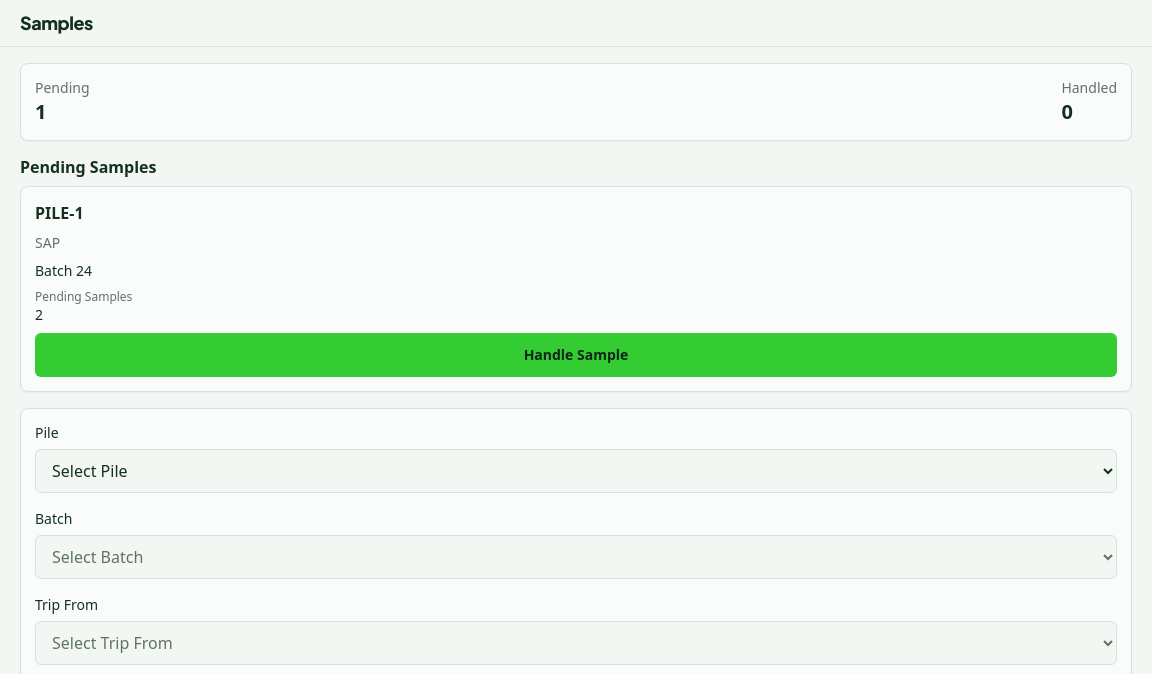
SampleHandlingPage › K. NOT_PICKED_UP saves without a destination
Select "PILE-1" in the dropdown labelled "Pile" at (576, 471), box x1=35 y1=449 x2=1117 y2=493
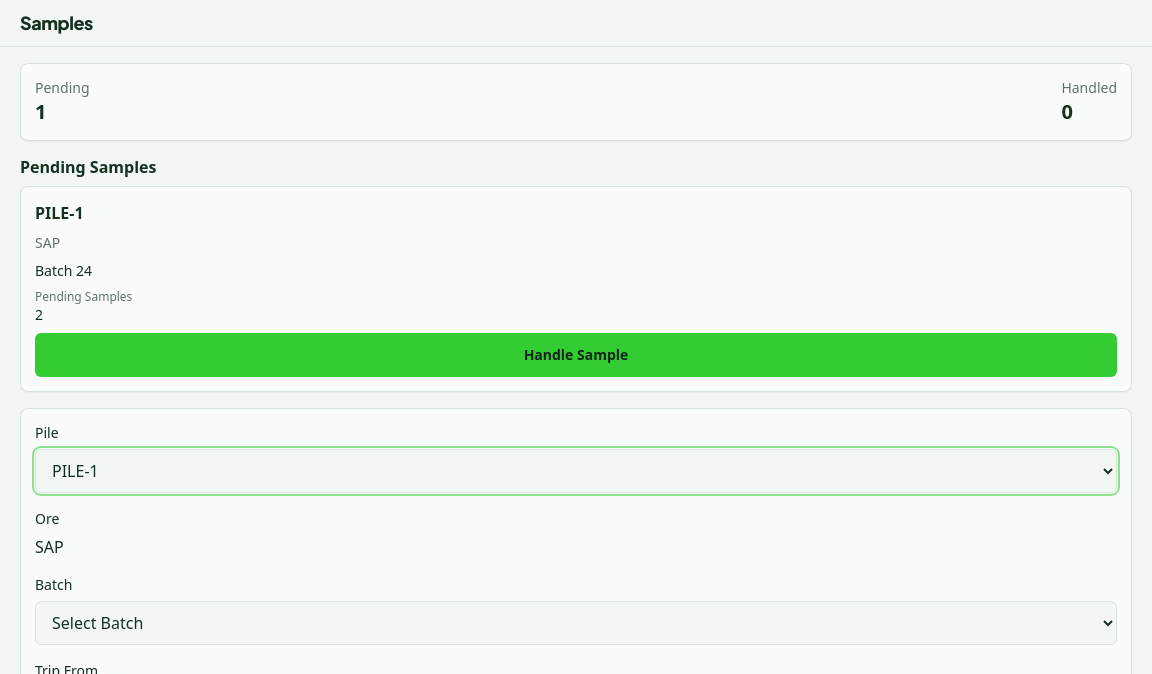
Select "24" in the dropdown labelled "Batch" at (576, 623), box x1=35 y1=601 x2=1117 y2=645
(page scrolled)
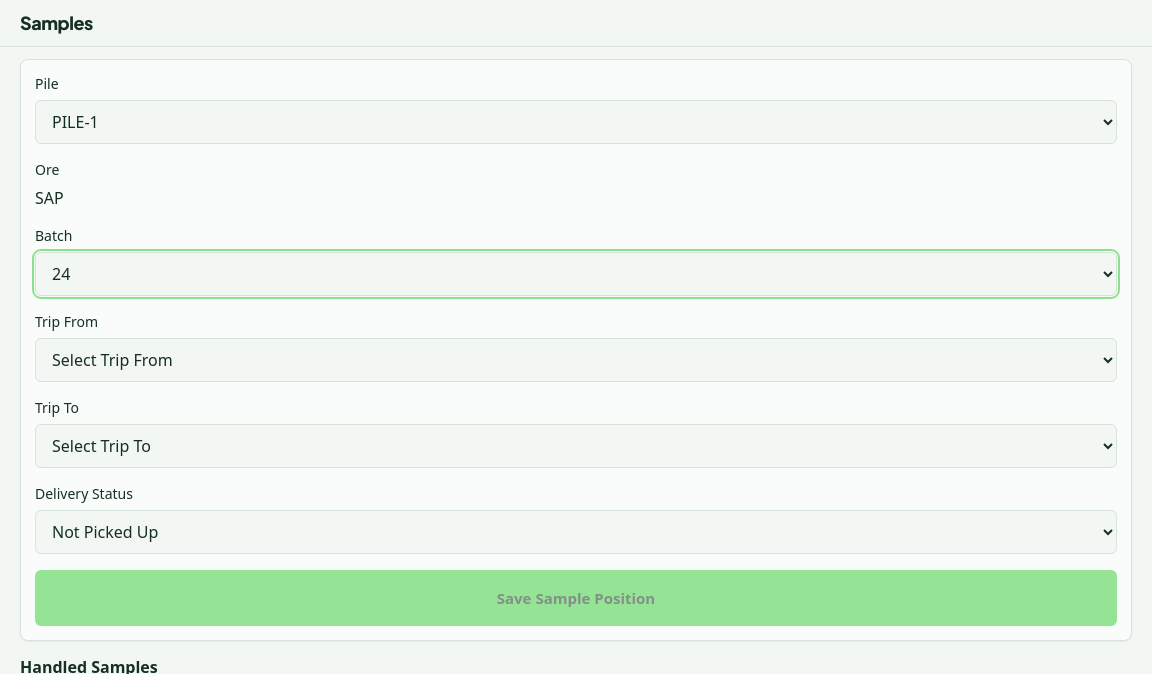
Select "2" in the dropdown labelled "Trip From" at (576, 360), box x1=35 y1=338 x2=1117 y2=382
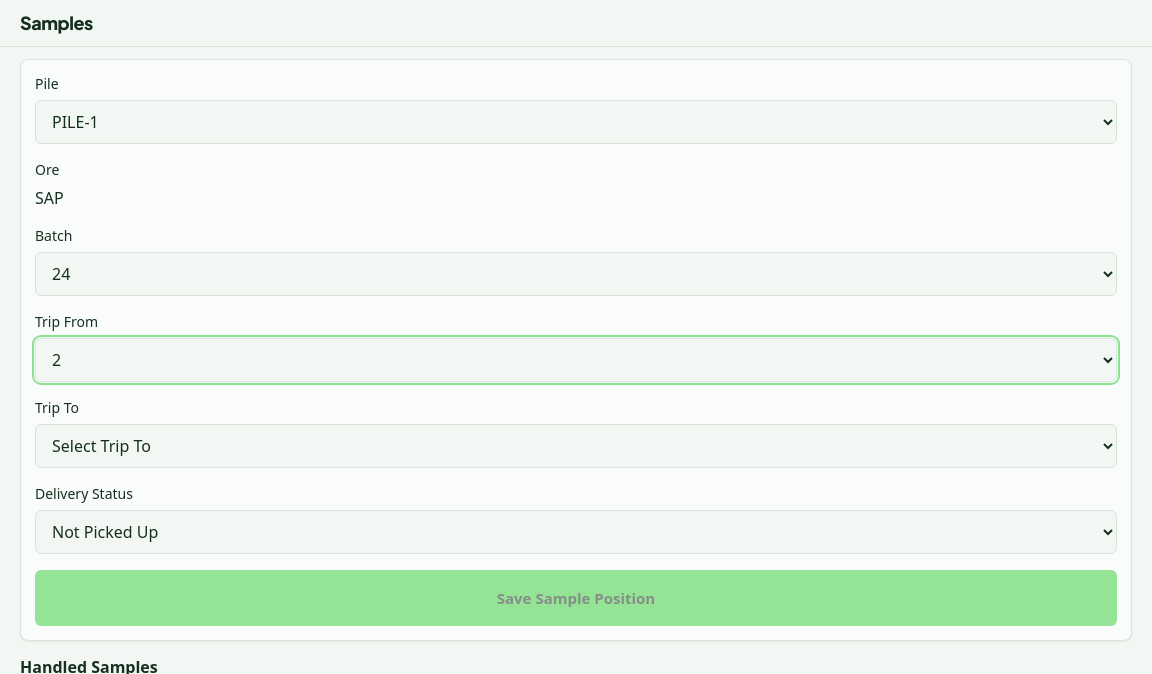
Select "2" in the dropdown labelled "Trip To" at (576, 446), box x1=35 y1=424 x2=1117 y2=468
(page scrolled)
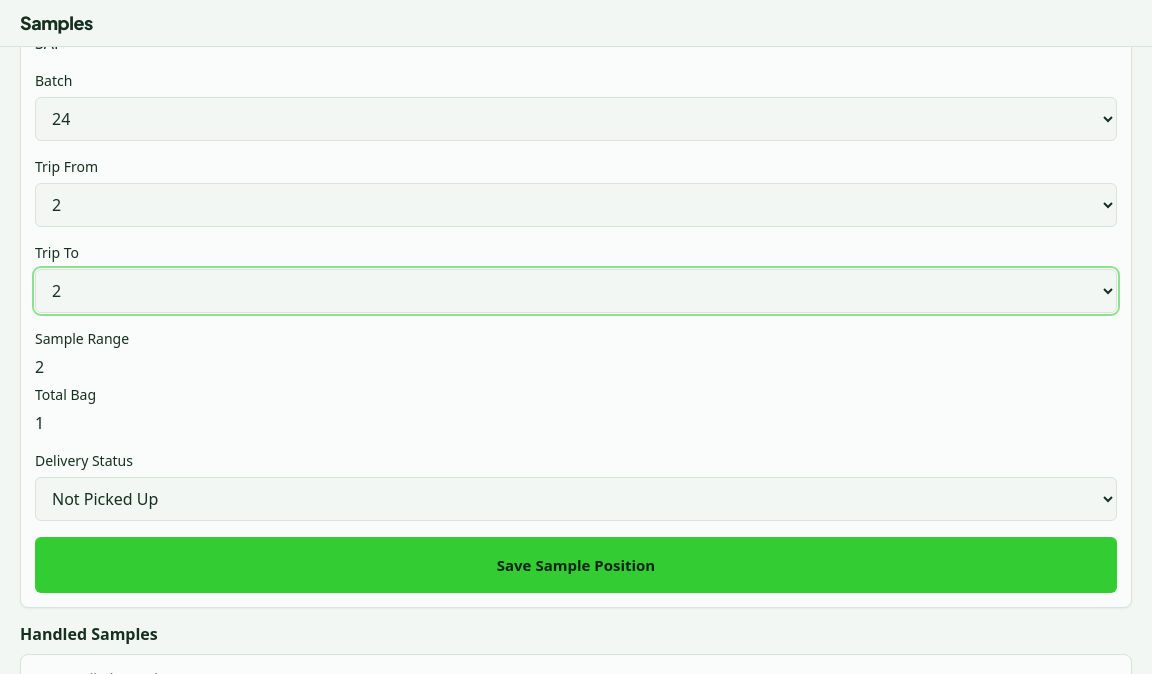
Click the button "Save Sample Position" at (576, 565), box x1=35 y1=537 x2=1117 y2=593
(page scrolled)
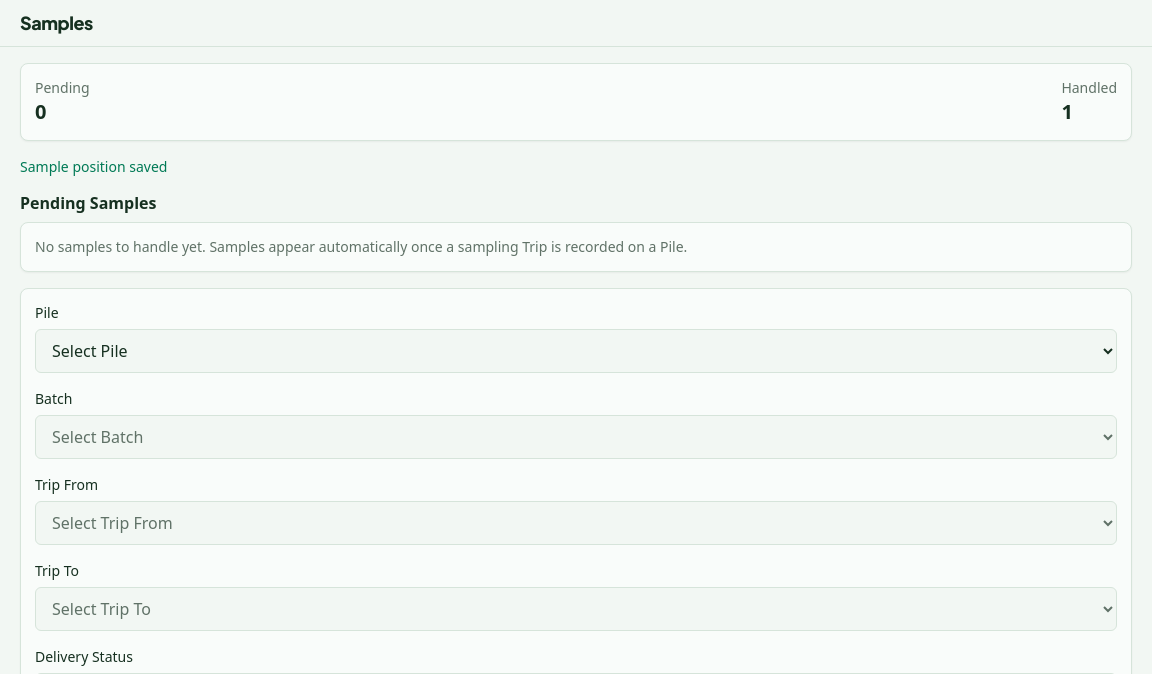
Expected: the text "Sample position saved" is shown, x1=20 y1=157 x2=167 y2=176
